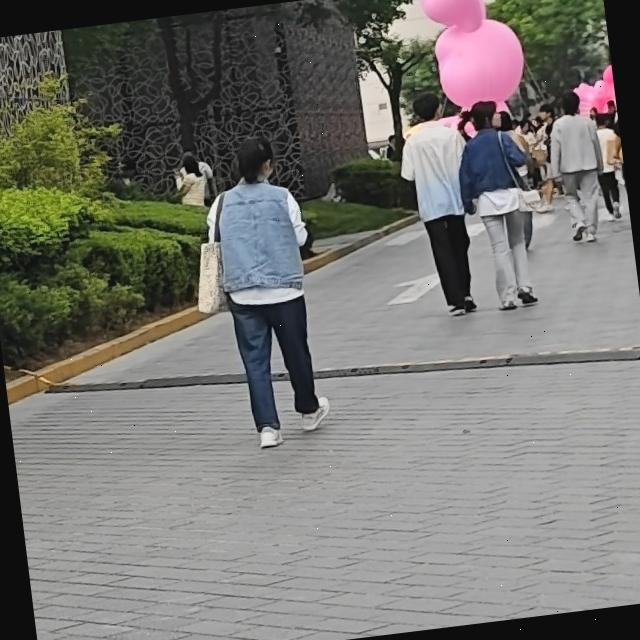curb: (5, 307, 213, 404), (304, 213, 416, 272)
